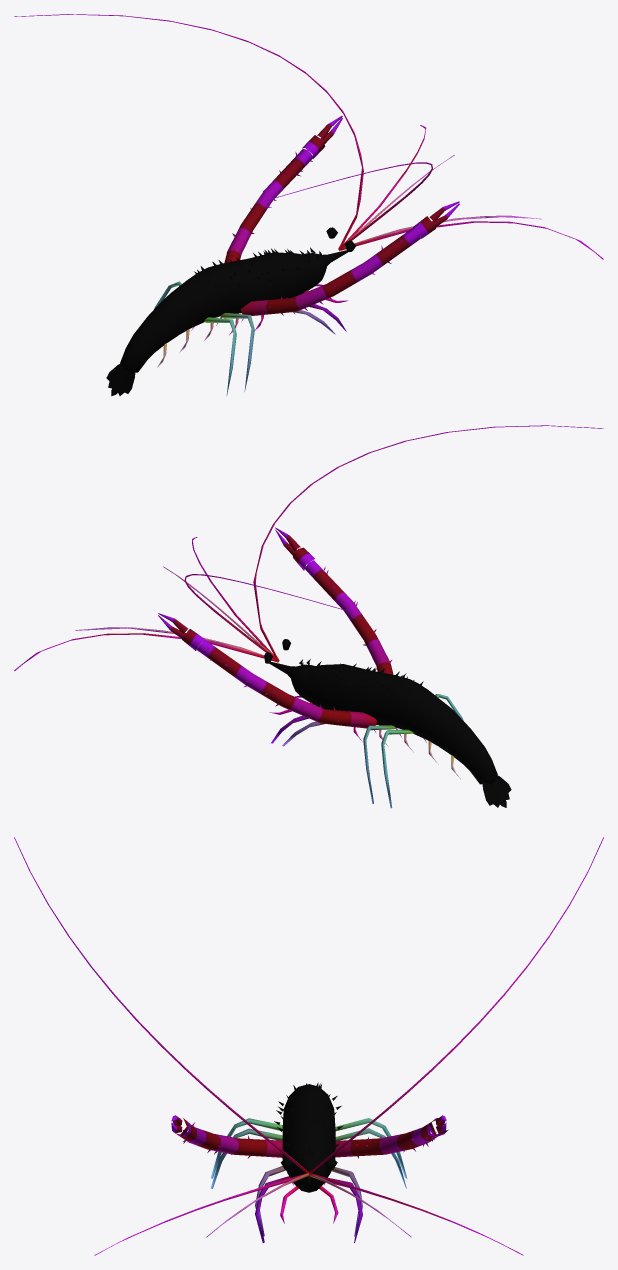
File: shrimp_lod1.glb
The picture shows the model from 3 angles, top to bottom: view 1: azimuth 30°, elevation 25°; view 2: azimuth 150°, elevation 25°; view 3: azimuth 270°, elevation 25°; orthographic projection. The views are drawn at different scales.
Parts seen in each view (by area): view 1: Body, Claws, Antennae, Legs; view 2: Body, Claws, Antennae, Legs; view 3: Body, Claws, Antennae, Legs.
Part boxes in pixels (box(x1,y1,x2,y2)): Body: box(106, 247, 348, 396); Claws: box(224, 116, 459, 315); Antennae: box(14, 14, 603, 259); Legs: box(154, 281, 348, 396); Body: box(269, 659, 511, 807); Claws: box(158, 527, 393, 728); Antennae: box(14, 425, 603, 670); Legs: box(269, 694, 463, 808); Body: box(274, 1082, 343, 1192); Claws: box(171, 1115, 448, 1158); Antennae: box(14, 837, 603, 1255); Legs: box(211, 1118, 407, 1242).
Bounding box in the file's own units: 1.61 × 1.08 × 1.75.
Materials: 2 (1 with a texture image).
